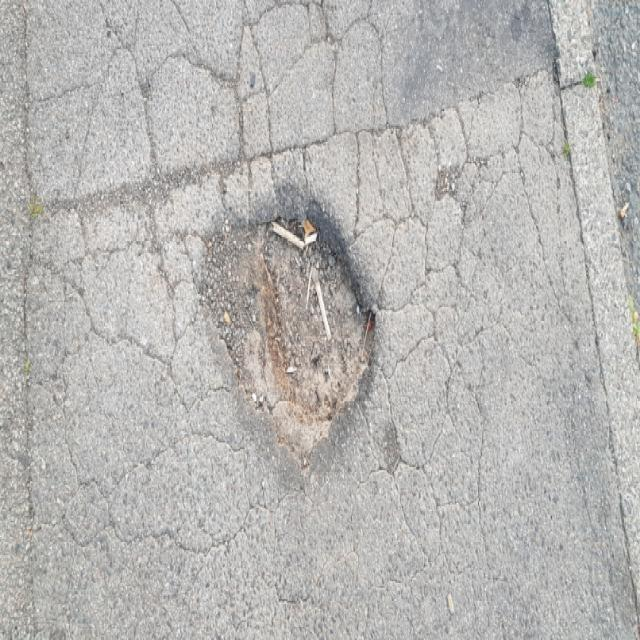pothole: (194, 176, 378, 484)
